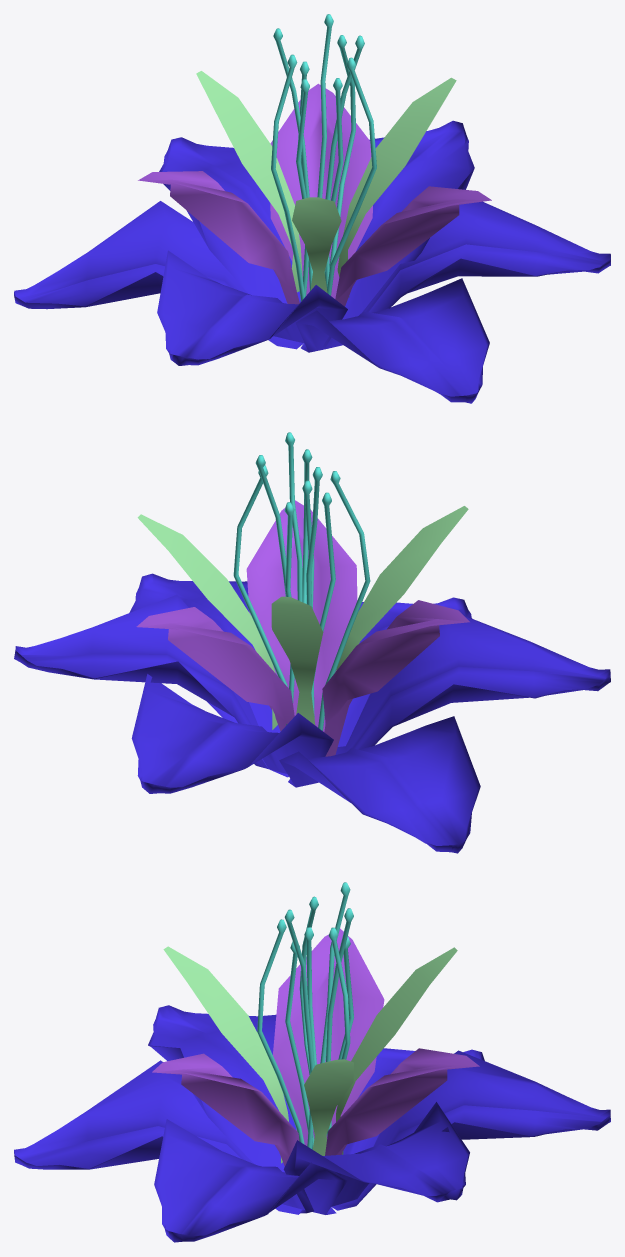
File: lotus.gltf
The picture shows the model from 3 angles, top to bottom: view 1: azimuth 30°, elevation 25°; view 2: azimuth 150°, elevation 25°; view 3: azimuth 270°, elevation 25°; orthographic projection. The views are drawn at different scales.
Parts seen in each view (by area): view 1: Flower.008, Flower.003, Flower.006, Flower.007, Flower.010, Flower.005, Flower.011, Flower.004, Flower.009, Flower, Flower.001, Flower.002 (+8 smaller); view 2: Flower.003, Flower.007, Flower.004, Flower.005, Flower.009, Flower.011, Flower.010, Flower.002, Flower.001, Flower, Flower.006, Flower.008 (+8 smaller); view 3: Flower.006, Flower.008, Flower.004, Flower.005, Flower.011, Flower.007, Flower.010, Flower.009, Flower.002, Flower, Flower.001, Flower.003 (+9 smaller).
Part boxes in pixels (x1,y1,x2,y2): Flower.008: (296, 278, 489, 403); Flower.003: (14, 201, 303, 349); Flower.006: (363, 201, 610, 312); Flower.007: (157, 250, 347, 365); Flower.010: (270, 83, 372, 298); Flower.005: (342, 120, 474, 319); Flower.011: (138, 171, 299, 304); Flower.004: (159, 137, 300, 303); Flower.009: (335, 186, 491, 306); Flower: (196, 71, 302, 292); Flower.001: (337, 77, 456, 297); Flower.002: (292, 197, 341, 292); Flower.003: (279, 716, 480, 853); Flower.007: (335, 615, 610, 754); Flower.004: (131, 674, 333, 793); Flower.005: (14, 594, 288, 777); Flower.009: (246, 500, 357, 731); Flower.011: (322, 600, 469, 756); Flower.010: (136, 607, 294, 731); Flower.002: (336, 506, 468, 670); Flower.001: (137, 514, 277, 729); Flower: (271, 596, 323, 724); Flower.006: (129, 573, 280, 732); Flower.008: (325, 597, 472, 746); Flower.006: (154, 1119, 347, 1242); Flower.008: (14, 1060, 302, 1214); Flower.004: (331, 1050, 610, 1210); Flower.005: (283, 1102, 469, 1213); Flower.011: (273, 928, 384, 1145); Flower.007: (148, 1005, 296, 1172); Flower.010: (325, 1048, 479, 1155); Flower.009: (152, 1053, 299, 1166); Flower.002: (163, 946, 288, 1163); Flower: (336, 947, 457, 1154); Flower.001: (304, 1059, 353, 1155); Flower.003: (343, 1048, 484, 1154).
Size of the model in its own units: 6.41 by 4.13 by 7.27.
